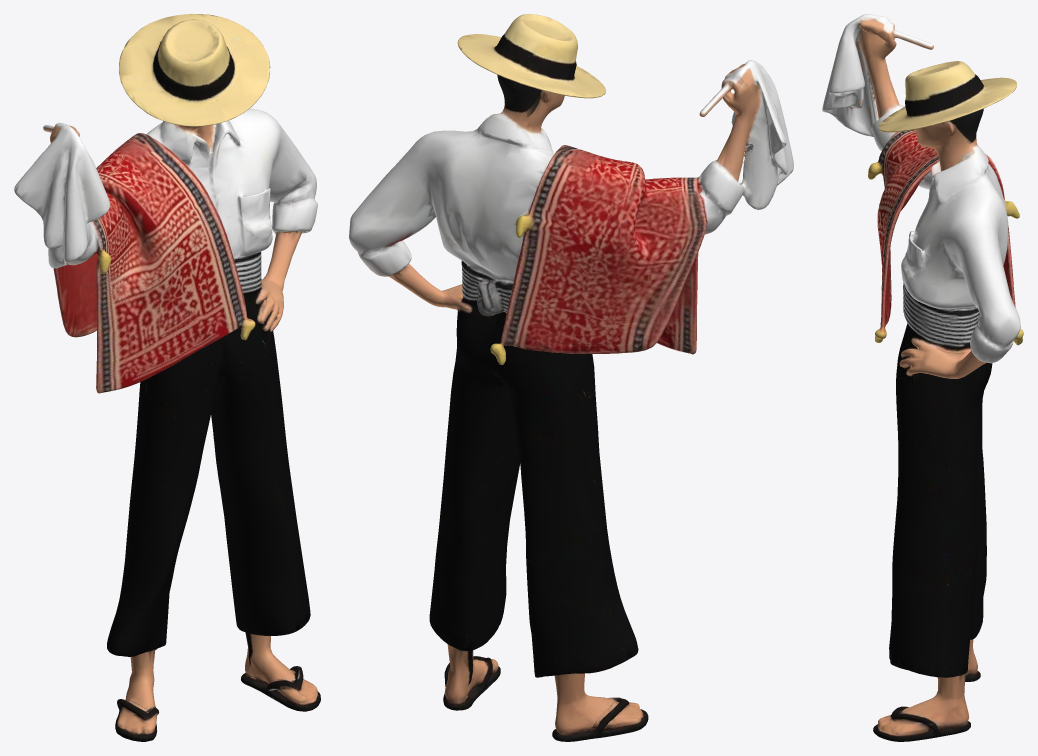
Rendered from 03-tondero-varon.glb.
3 views of the same model, side by side, from view 1: azimuth 30°, elevation 25°; view 2: azimuth 150°, elevation 25°; view 3: azimuth 270°, elevation 25° (orthographic). The views are drawn at different scales.
Size of the model in its own units: 1.06 by 1.9 by 0.5471.
1 material, 1 textured.
